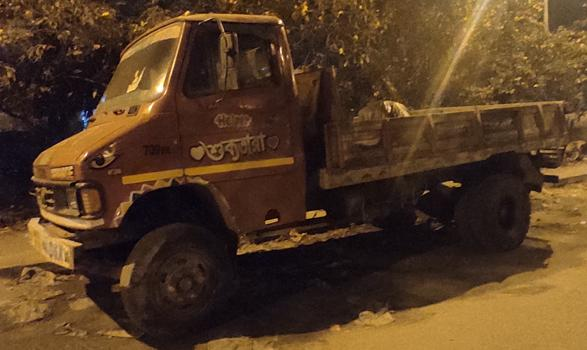Truck: (21, 8, 570, 343)
